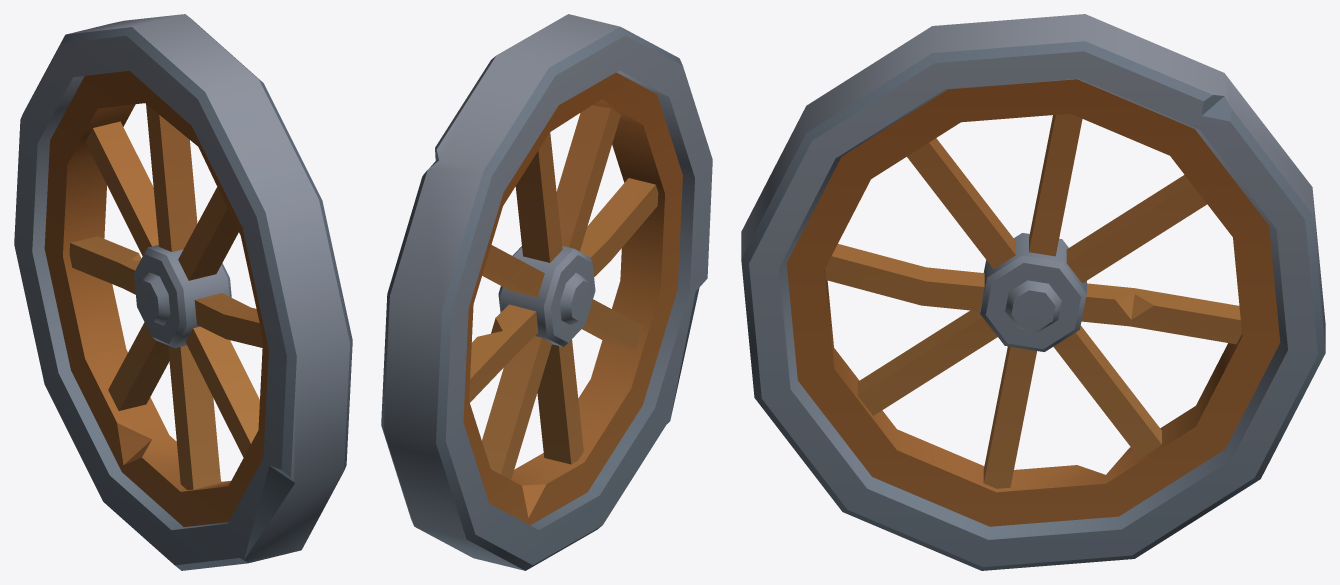
Rendered from Wheel_B.glb.
The picture shows the model from 3 angles, left to right: view 1: azimuth 30°, elevation 25°; view 2: azimuth 150°, elevation 25°; view 3: azimuth 270°, elevation 25°; orthographic projection. The views are drawn at different scales.
Visible parts, largest first — view 1: Wheel_B; view 2: Wheel_B; view 3: Wheel_B.
Boxes of the visible parts, <box> form: Wheel_B: <box>14,14,352,570</box>; Wheel_B: <box>381,14,712,570</box>; Wheel_B: <box>741,14,1325,570</box>.
Size of the model in its own units: 0.1375 by 0.95 by 0.95.
2 materials, 2 textured.
